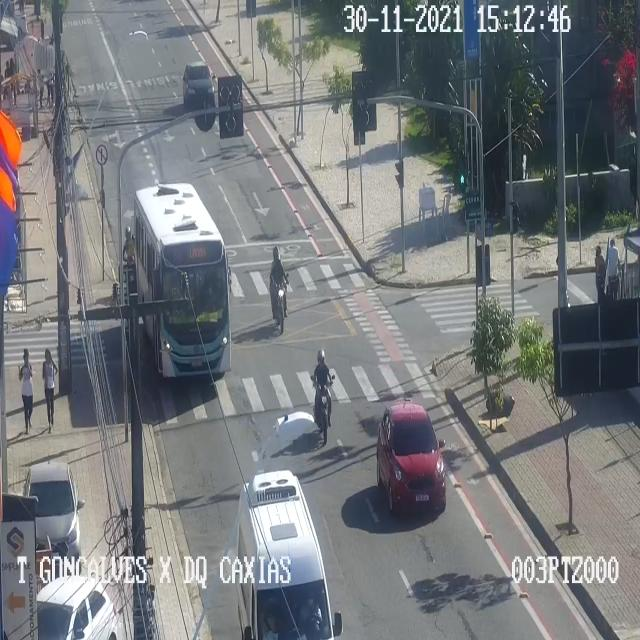Bus: (134, 182, 230, 376)
Car: (237, 475, 333, 639), (376, 402, 446, 510), (24, 462, 80, 570), (37, 575, 117, 639), (183, 61, 214, 105)
Motorcycle: (311, 348, 333, 442), (269, 245, 288, 332), (122, 225, 136, 294)
